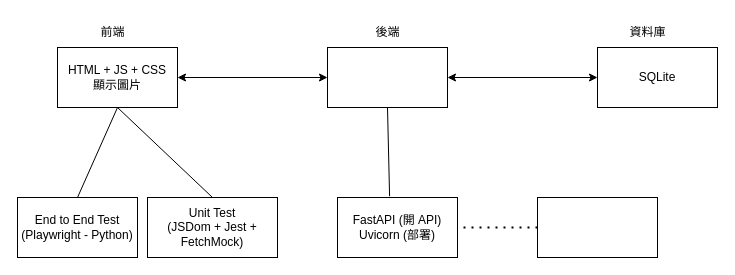
Some shapes in this 735 by 275 pixel diagram are drawn without their labels. The shapes that lost their labels are listed below. From the top down, each one's box as (x1, y1, x2, y2) in pixels, then its label:
(326, 46, 448, 108): API Server
(536, 196, 658, 258): API Test ( Postman - Python Unit Test )
